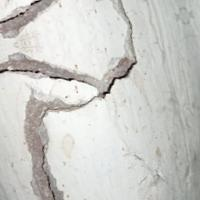crack: (0, 0, 141, 199)
